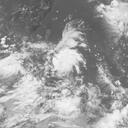cyclone: (47, 43, 91, 78)
